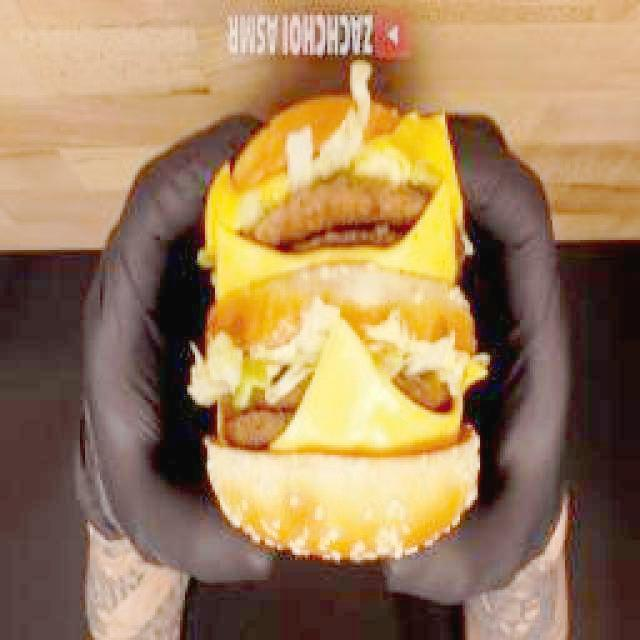burger: (194, 81, 488, 560)
